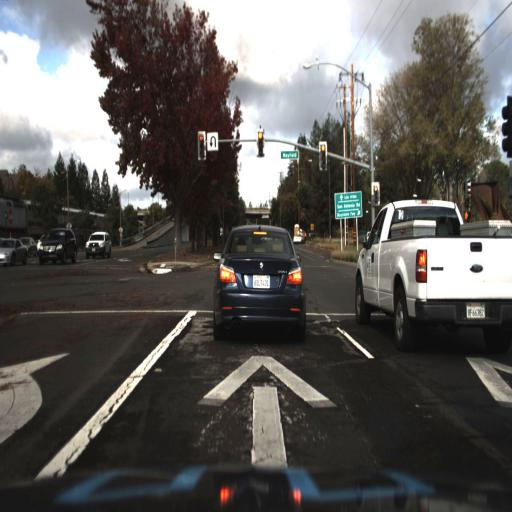car: (352, 192, 511, 341), (211, 225, 306, 334), (40, 228, 76, 264), (0, 236, 34, 268), (0, 236, 27, 267), (85, 228, 112, 258)
trafficLight-Red: (369, 178, 382, 214), (318, 143, 327, 175), (255, 130, 264, 155), (371, 182, 379, 207)
trafficLight-RedLeft: (196, 126, 208, 168), (197, 132, 207, 159)
